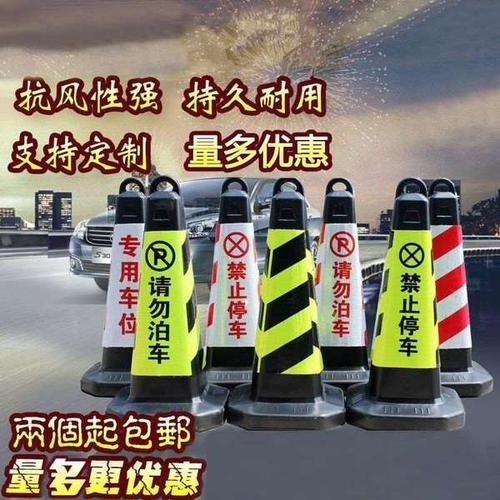cone_barrel: (236, 184, 342, 425), (105, 183, 213, 415), (357, 185, 454, 424), (200, 180, 266, 382), (86, 195, 151, 390), (423, 182, 485, 385), (312, 179, 373, 383)
